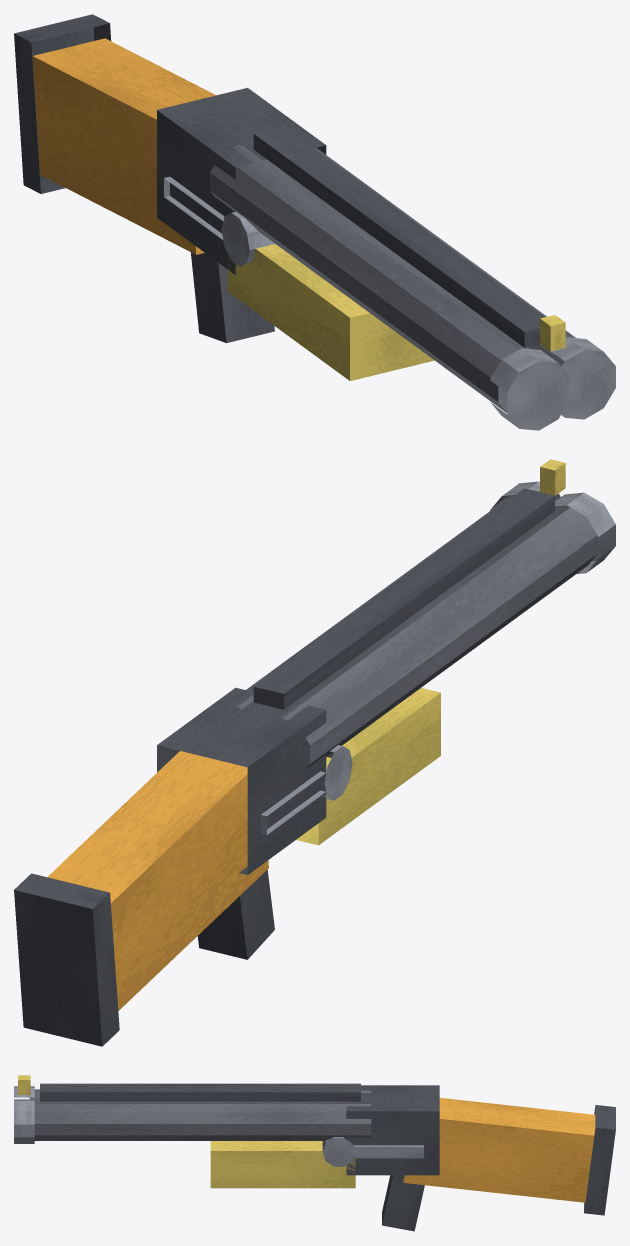
The model's file is weapon_dbl.glb.
3 views of the same model, one above another, from view 1: azimuth 30°, elevation 25°; view 2: azimuth 150°, elevation 25°; view 3: azimuth 270°, elevation 25° (orthographic). The views are drawn at different scales.
Parts seen in each view (by area): view 1: weapon_dbl; view 2: weapon_dbl; view 3: weapon_dbl.
Boxes of the visible parts, x1,y1,x2,y2 form: weapon_dbl: [14, 14, 615, 430]; weapon_dbl: [14, 459, 615, 1046]; weapon_dbl: [14, 1075, 615, 1231].
Size of the model in its own units: 0.3592 by 0.7825 by 2.91.
1 material, 1 textured.
